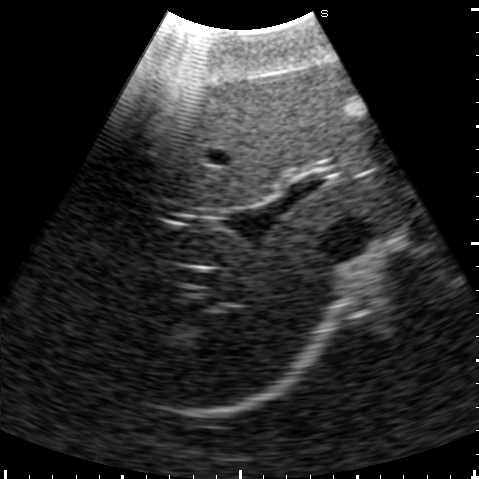IVC: (318, 220, 372, 259)
S1: (274, 183, 406, 241)
S2: (355, 160, 416, 195)
S3: (325, 61, 392, 175)
S4: (162, 62, 330, 210)
Tumor: (344, 97, 367, 119)
